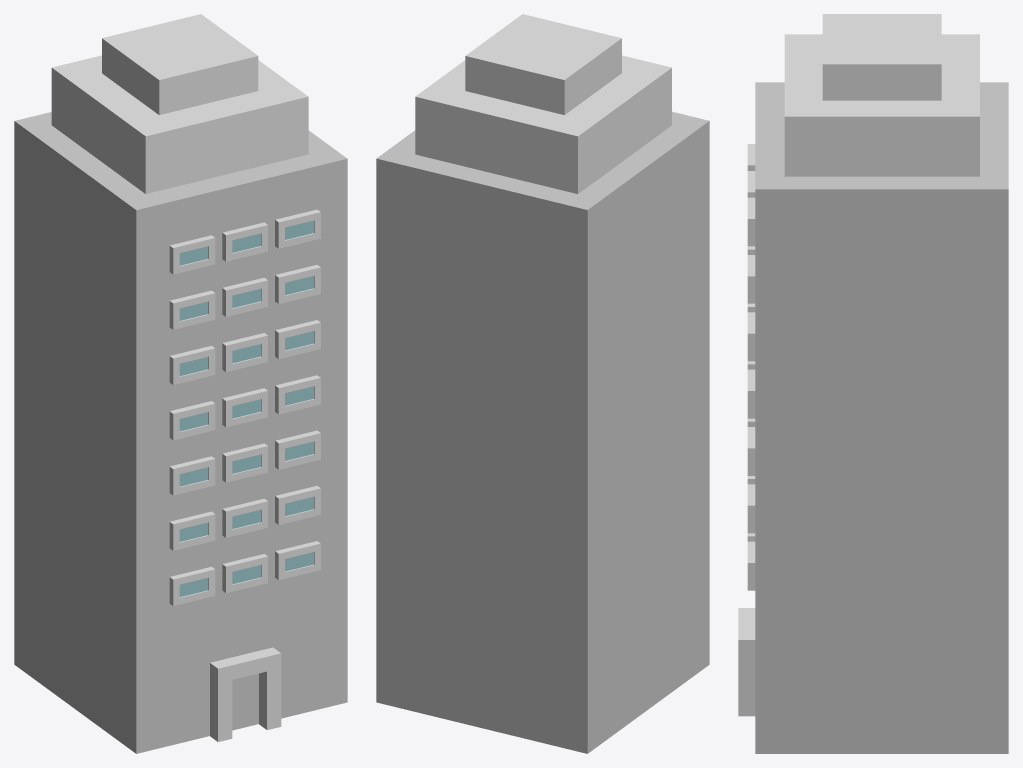
Rendered from building1imp.fbx.
3 views of the same model, side by side, from view 1: azimuth 30°, elevation 25°; view 2: azimuth 150°, elevation 25°; view 3: azimuth 270°, elevation 25° (orthographic). The views are drawn at different scales.
Parts seen in each view (by area): view 1: building1, roof1, roof2, door.001, window.006, window, window.005, window.001, window.003, window.002, window.004, window.019 (+13 smaller); view 2: building1, roof1, roof2; view 3: building1, roof1, roof2, door.001.
Boxes of the visible parts, x1,y1,x2,y2 form: building1: (14, 112, 347, 753); roof1: (51, 55, 308, 193); roof2: (102, 14, 258, 114); door.001: (210, 647, 281, 741); window.006: (169, 566, 215, 605); window: (169, 235, 215, 274); window.005: (169, 511, 215, 550); window.001: (169, 290, 215, 329); window.003: (169, 401, 215, 440); window.002: (169, 346, 215, 384); window.004: (169, 456, 215, 495); window.019: (222, 498, 267, 537); building1: (376, 111, 709, 753); roof1: (415, 55, 671, 193); roof2: (465, 14, 621, 114); building1: (755, 82, 1008, 753); roof1: (784, 34, 979, 176); roof2: (822, 14, 941, 100); door.001: (738, 608, 755, 716).
Bounding box in the file's own units: 200 × 576 × 214.
